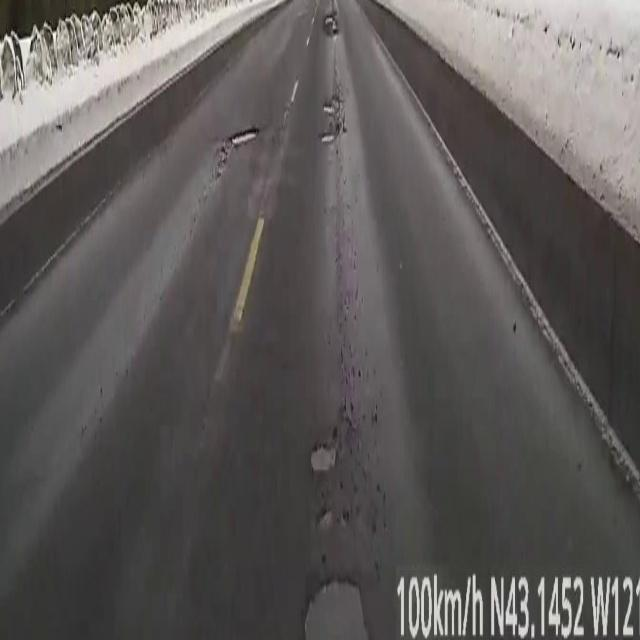pothole: (320, 91, 345, 142), (228, 123, 258, 149), (311, 445, 336, 469), (302, 630, 379, 636)
